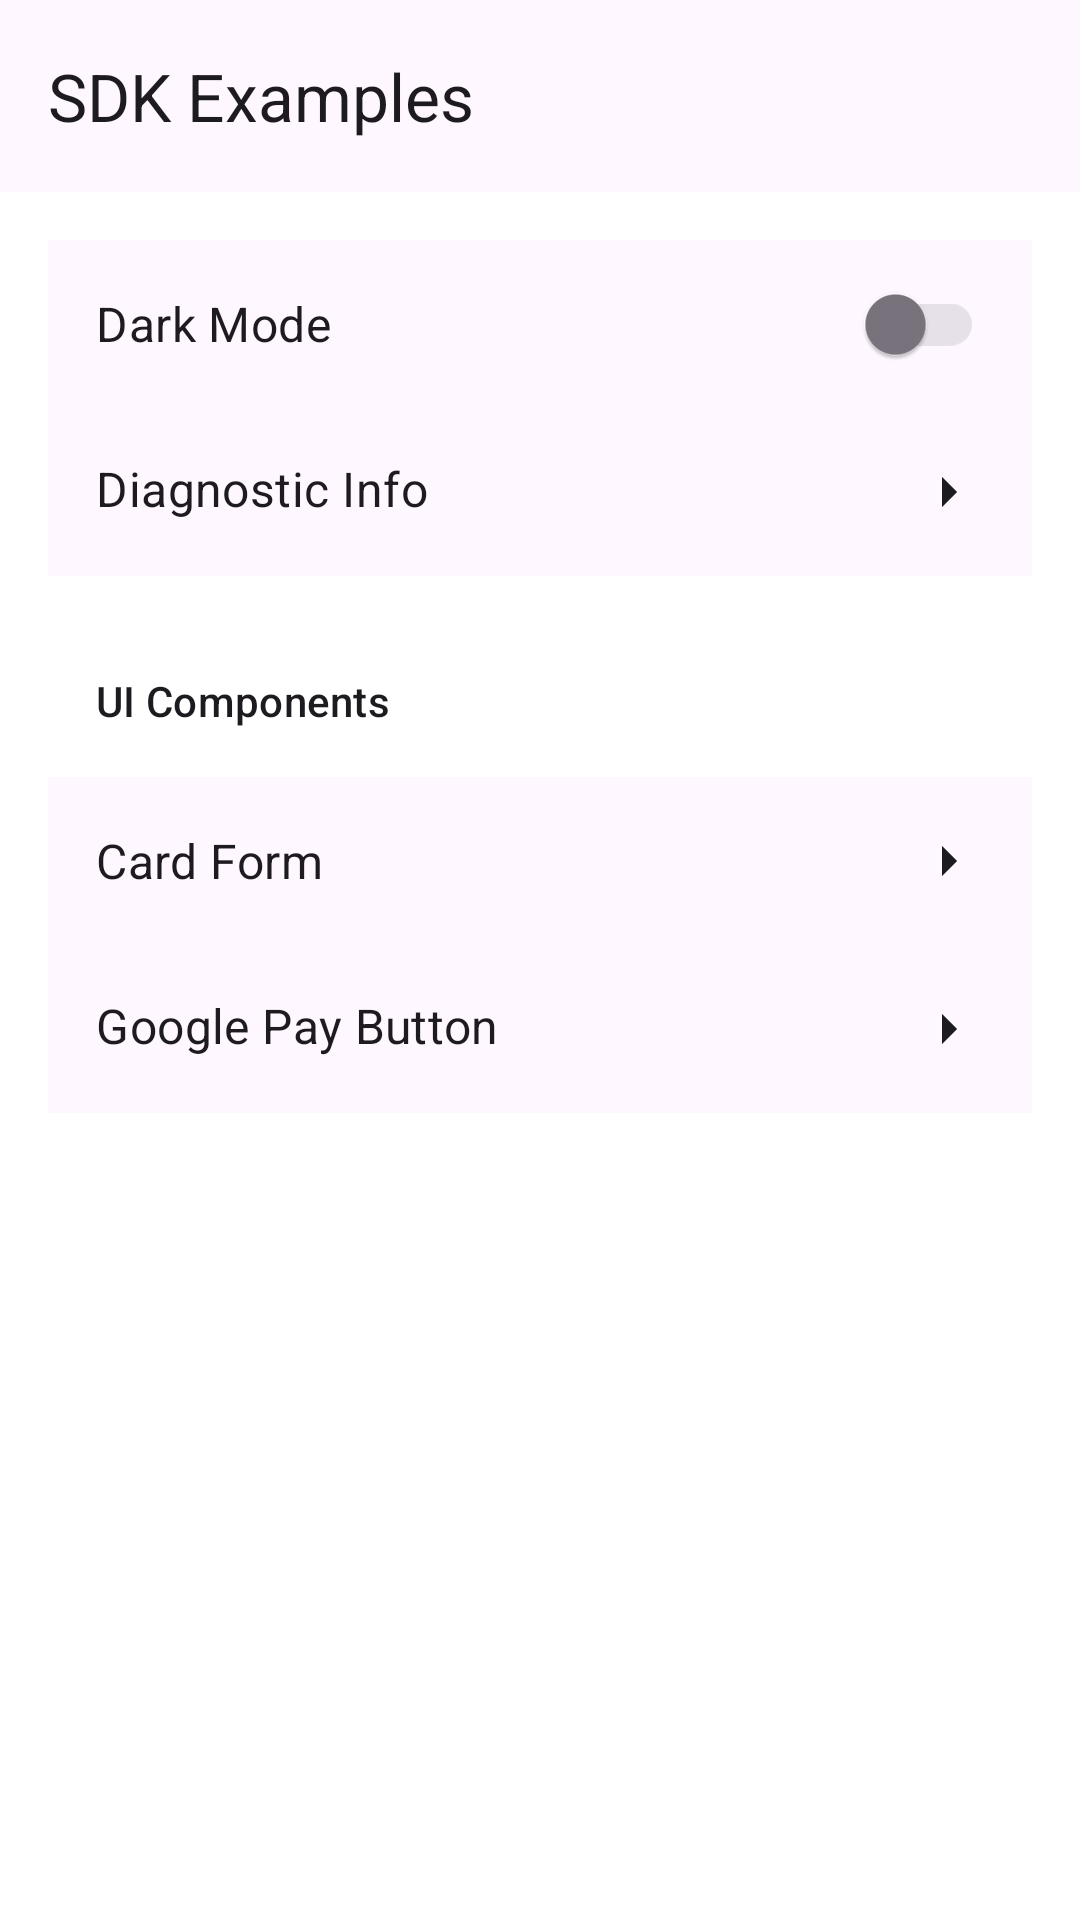

Icon click points for this 1080w x 1920h phone screenshot, format (x,y):
arrow right: (949,492), (949,861), (949,1029)
